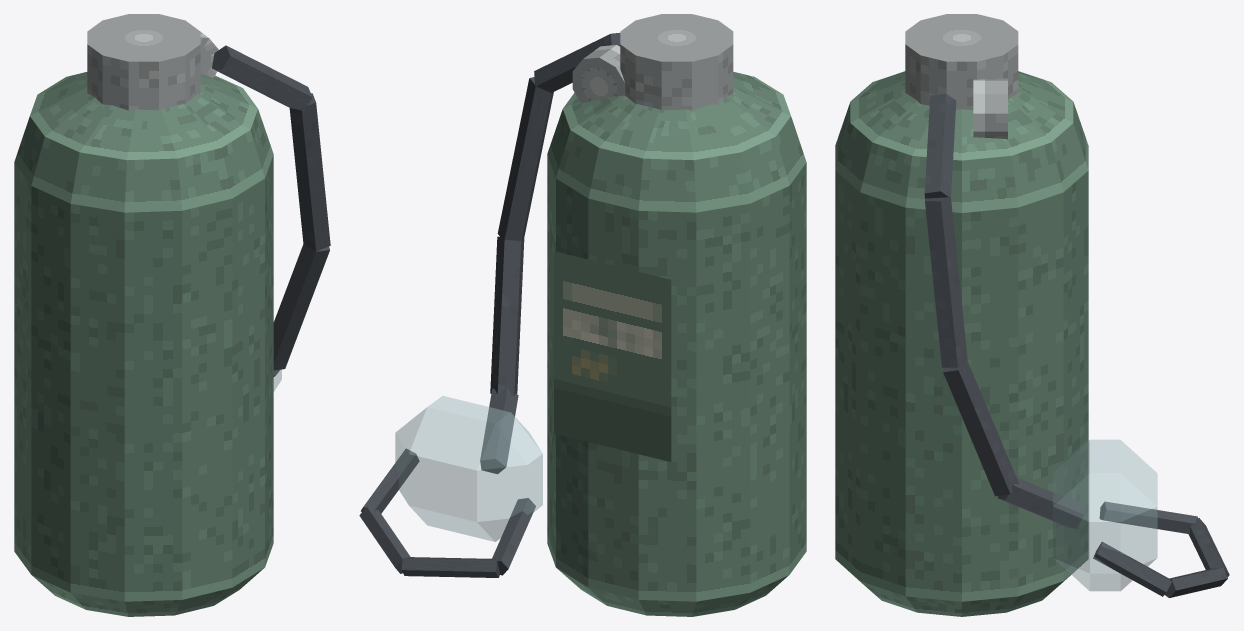
File: smoxygen_tank.glb
3 renders of one model, left to right at view 1: azimuth 30°, elevation 25°; view 2: azimuth 150°, elevation 25°; view 3: azimuth 270°, elevation 25°, orthographic.
Parts seen in each view (by area): view 1: block_gas cylinder, block_valve collar, block_looped delivery hose 1, block_looped delivery hose 2, block_looped delivery hose 0, block_regulator dial shell; view 2: block_gas cylinder, block_cylinder markings, block_packed oxygen face mask, block_valve collar, block_looped delivery hose 1, block_looped delivery hose 2, block_regulator dial shell, block_looped delivery hose 3, block_mask elastic 1, block_looped delivery hose 0, block_mask elastic 0, block_mask elastic 3 (+1 smaller); view 3: block_gas cylinder, block_packed oxygen face mask, block_valve collar, block_looped delivery hose 1, block_looped delivery hose 2, block_looped delivery hose 0, block_regulator dial shell, block_looped delivery hose 3, block_mask elastic 0, block_mask elastic 3, block_mask elastic 2, block_mask elastic 1.
Boxes of the visible parts, x1,y1,x2,y2 form: block_gas cylinder: (14, 72, 273, 616); block_valve collar: (87, 14, 200, 110); block_looped delivery hose 1: (289, 93, 330, 251); block_looped delivery hose 2: (273, 244, 329, 370); block_looped delivery hose 0: (212, 45, 312, 111); block_regulator dial shell: (200, 32, 218, 77); block_gas cylinder: (547, 71, 806, 616); block_cylinder markings: (554, 251, 671, 461); block_packed oxygen face mask: (395, 396, 542, 541); block_valve collar: (620, 14, 733, 110); block_looped delivery hose 1: (497, 77, 553, 240); block_looped delivery hose 2: (490, 236, 524, 395); block_regulator dial shell: (572, 45, 625, 103); block_looped delivery hose 3: (480, 387, 518, 474); block_mask elastic 1: (401, 557, 499, 577); block_looped delivery hose 0: (534, 33, 620, 92); block_mask elastic 0: (492, 498, 535, 575); block_mask elastic 3: (361, 448, 419, 513); block_gas cylinder: (835, 71, 1088, 616); block_packed oxygen face mask: (1053, 439, 1157, 591); block_valve collar: (905, 14, 1018, 110); block_looped delivery hose 1: (925, 196, 967, 367); block_looped delivery hose 2: (942, 361, 1018, 496); block_looped delivery hose 0: (924, 93, 956, 198); block_regulator dial shell: (973, 78, 1007, 139); block_looped delivery hose 3: (997, 477, 1083, 528); block_mask elastic 0: (1099, 501, 1197, 534); block_mask elastic 3: (1093, 542, 1171, 596); block_mask elastic 2: (1164, 567, 1227, 597); block_mask elastic 1: (1188, 518, 1229, 576).
Bounding box in the file's own units: 0.1403 × 0.22 × 0.1469.
Materials: 3 (3 with a texture image).
